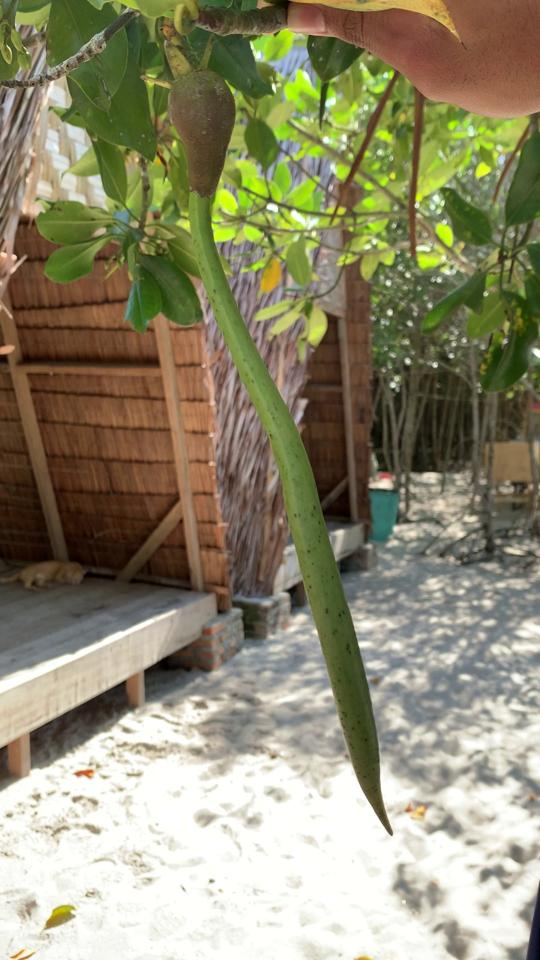mentah: (152, 51, 412, 847)
